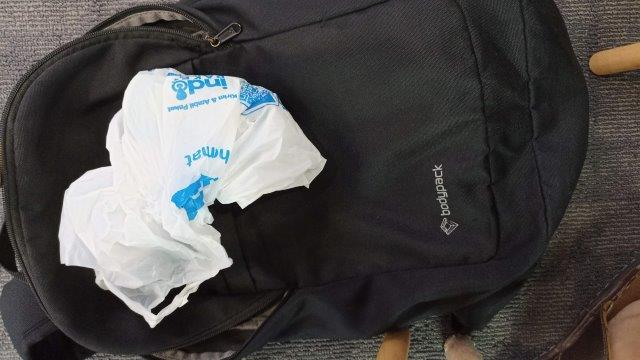plastik: (59, 69, 326, 328)
